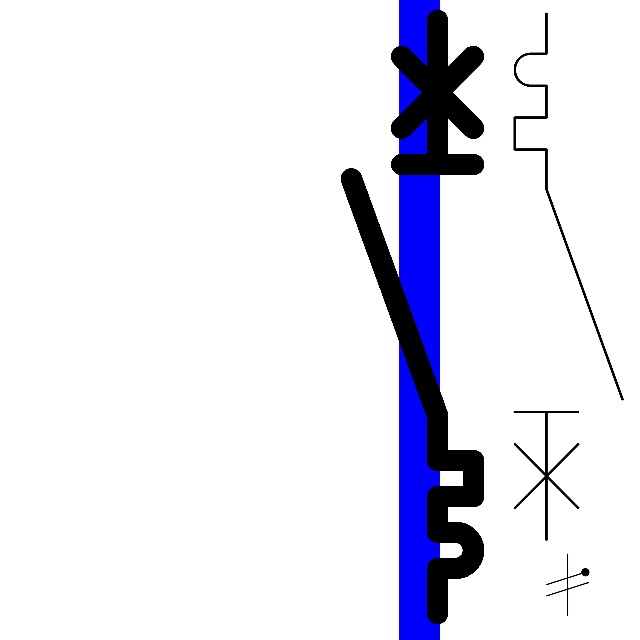interruptor_termomagnetico: (336, 5, 489, 629), (501, 0, 636, 553)
